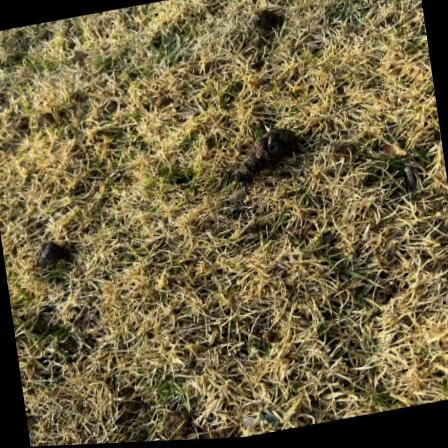dog-poop: (227, 118, 301, 188), (28, 228, 73, 274)
